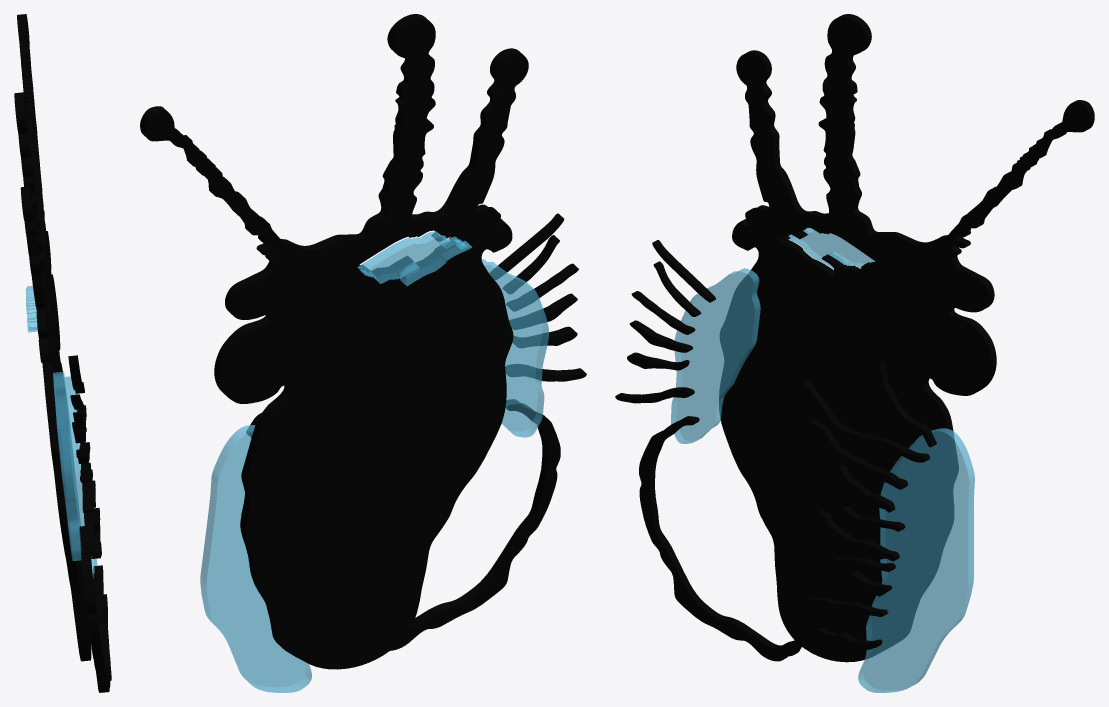
3 renders of one model, left to right at view 1: azimuth 30°, elevation 25°; view 2: azimuth 150°, elevation 25°; view 3: azimuth 270°, elevation 25°, orthographic. The views are drawn at different scales.
Parts seen in each view (by area): view 1: BLACK, BLUE; view 2: BLACK, BLUE; view 3: BLACK, BLUE.
Part boxes in pixels (x1,y1,x2,y2): BLACK: (14,14,111,692); BLUE: (26,286,97,578); BLACK: (140,14,586,669); BLUE: (200,231,548,692); BLACK: (615,14,1094,662); BLUE: (671,227,974,692).
Size of the model in its own units: 12.71 by 40.94 by 28.33.
